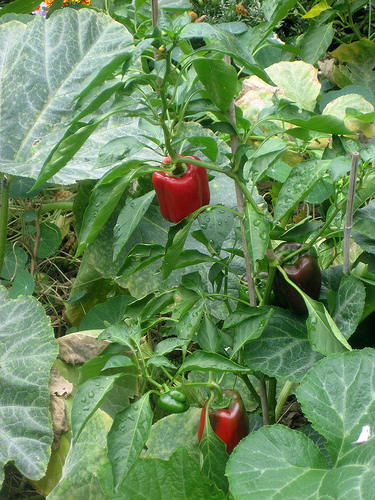capsicum: (152, 152, 210, 223), (270, 237, 321, 307), (206, 382, 252, 452)
